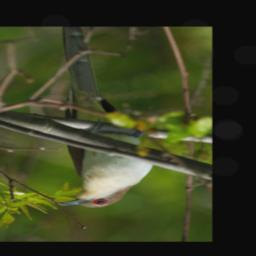Cuckoo: (54, 27, 158, 209)
